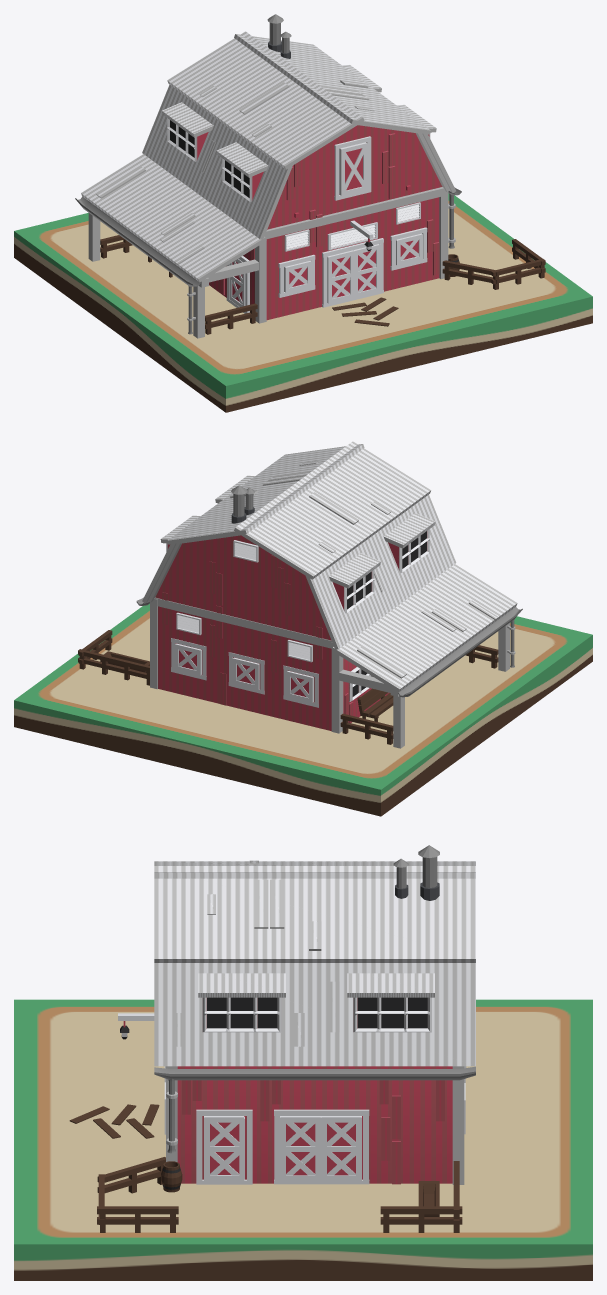
The model's file is Barn.obj.
3 renders of one model, top to bottom at view 1: azimuth 30°, elevation 25°; view 2: azimuth 150°, elevation 25°; view 3: azimuth 270°, elevation 25°, orthographic. The views are drawn at different scales.
Parts seen in each view (by area): view 1: Barn1; view 2: Barn1; view 3: Barn1.
Part boxes in pixels (box(x1,y1,x2,y2)): Barn1: box(14, 14, 592, 412); Barn1: box(14, 441, 592, 816); Barn1: box(14, 845, 592, 1280).
Bounding box in the file's own units: 9900 × 6141 × 9900.
Materials: 1 (1 with a texture image).
